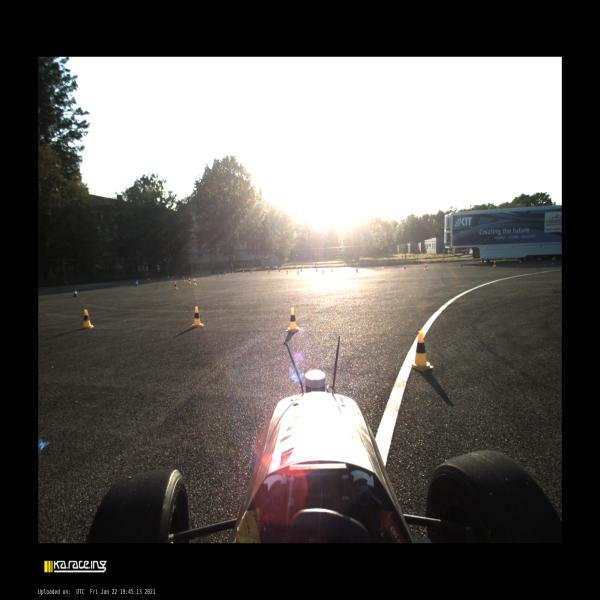blue_cone: (38, 439, 50, 453), (73, 288, 78, 298), (460, 261, 463, 267), (519, 259, 522, 264), (136, 279, 139, 284), (136, 280, 138, 286), (315, 268, 318, 272), (148, 277, 150, 282), (196, 273, 198, 278), (224, 270, 226, 275), (404, 264, 406, 269), (167, 275, 169, 279), (278, 268, 280, 272), (331, 267, 333, 271), (300, 268, 302, 271), (251, 269, 252, 274)
yellow_cone: (407, 330, 434, 372), (285, 307, 301, 333), (191, 306, 205, 328), (81, 308, 95, 330), (174, 282, 178, 290), (193, 278, 197, 286), (424, 264, 428, 270), (551, 259, 555, 265), (188, 277, 191, 284), (182, 277, 186, 282), (493, 261, 496, 266), (286, 270, 289, 274), (356, 267, 358, 273), (218, 272, 220, 277), (242, 270, 244, 275), (297, 270, 299, 275), (268, 269, 270, 274), (322, 270, 324, 274)
